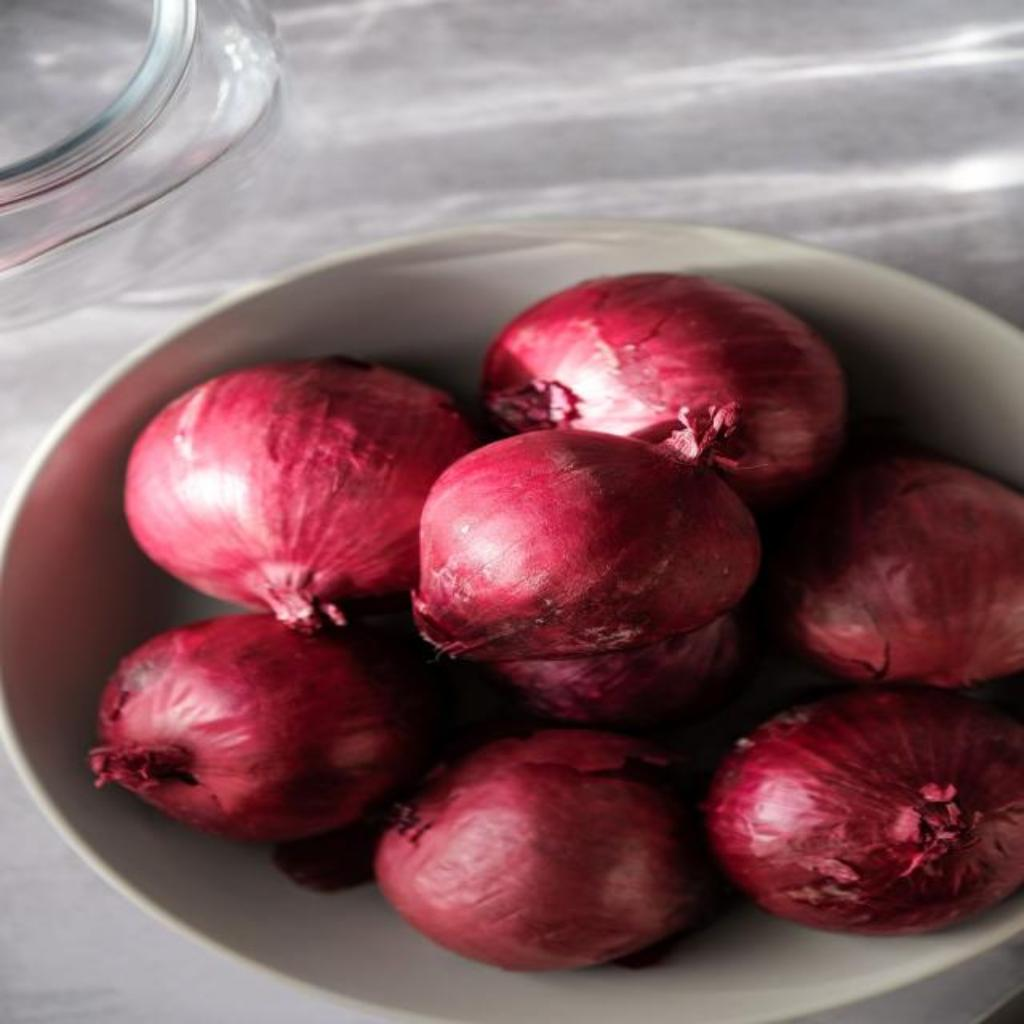Onion: (125, 358, 477, 633), (483, 275, 848, 510), (374, 731, 718, 974), (413, 430, 762, 662), (90, 616, 440, 842), (706, 691, 1024, 936), (774, 459, 1024, 689)
